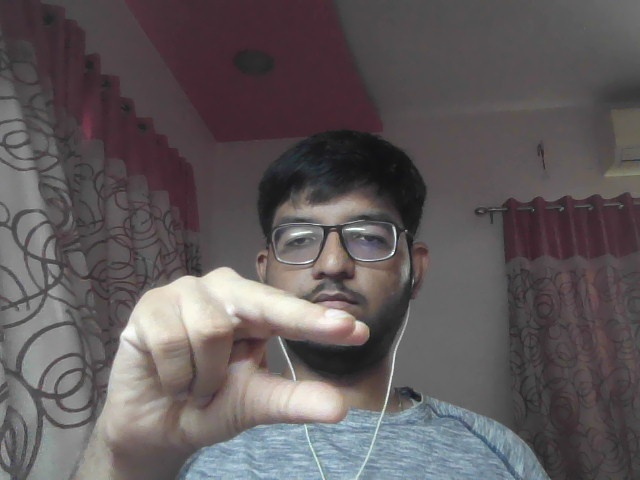ના: (93, 264, 387, 466)
